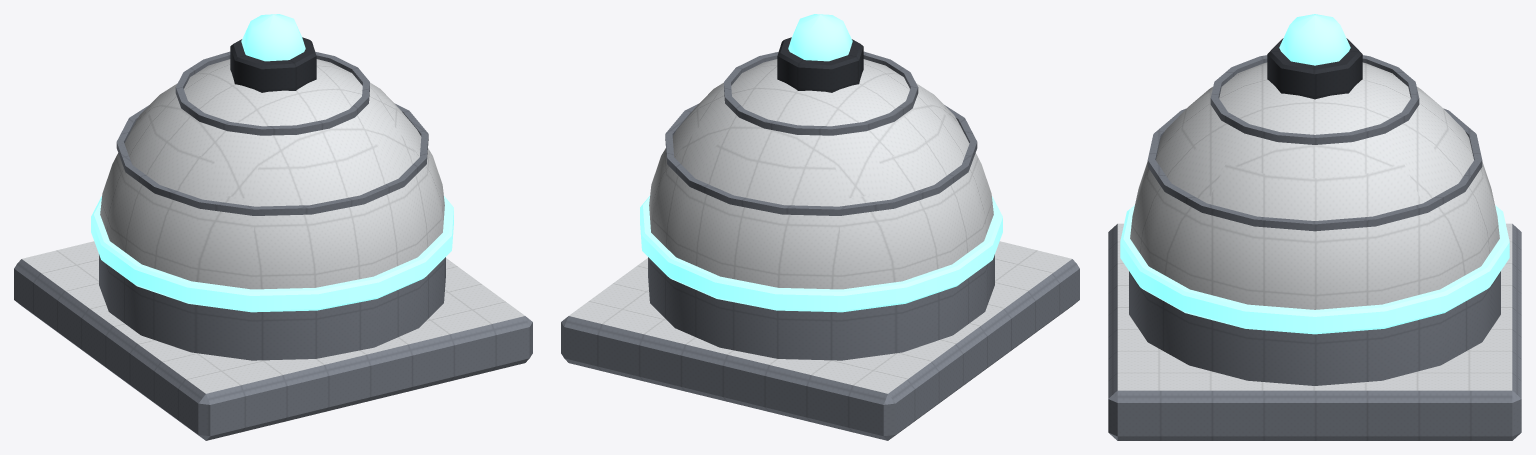
File: R4X_PersonalShield_LOD1.glb
The picture shows the model from 3 angles, left to right: view 1: azimuth 30°, elevation 25°; view 2: azimuth 150°, elevation 25°; view 3: azimuth 270°, elevation 25°; orthographic projection. The views are drawn at different scales.
Parts seen in each view (by area): view 1: R4X_PersonalShield_LOD1; view 2: R4X_PersonalShield_LOD1; view 3: R4X_PersonalShield_LOD1.
Boxes of the visible parts, x1,y1,x2,y2 form: R4X_PersonalShield_LOD1: (14,14,532,440); R4X_PersonalShield_LOD1: (561,14,1079,440); R4X_PersonalShield_LOD1: (1108,14,1521,440).
Bounding box in the file's own units: 0.52 × 0.475 × 0.52.
Materials: 4 (3 with a texture image).
